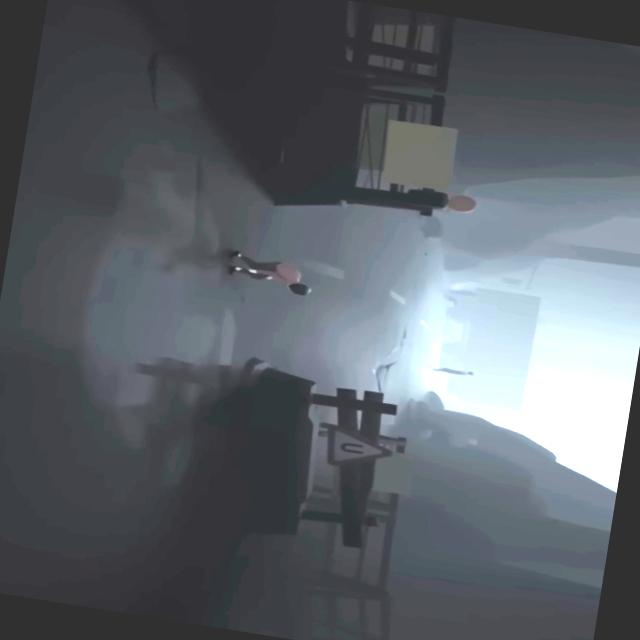boy: (225, 250, 314, 297)
